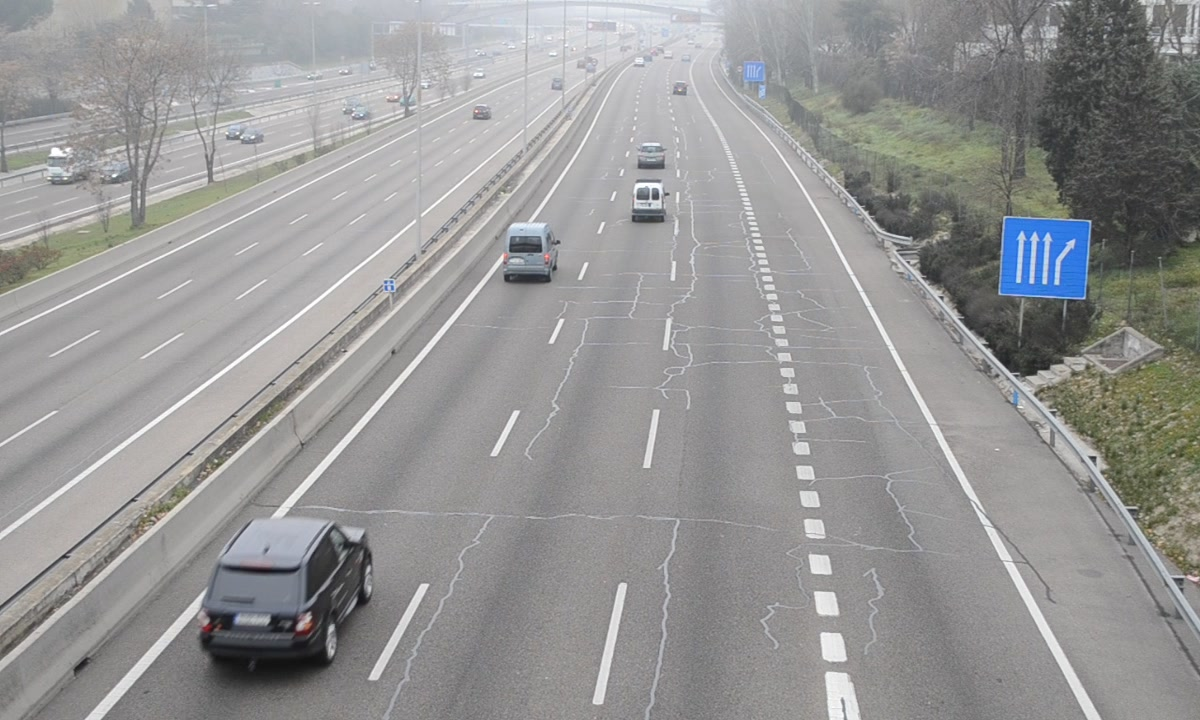car: (197, 521, 370, 656), (636, 142, 666, 169)
van: (504, 222, 559, 280), (631, 178, 669, 225)
